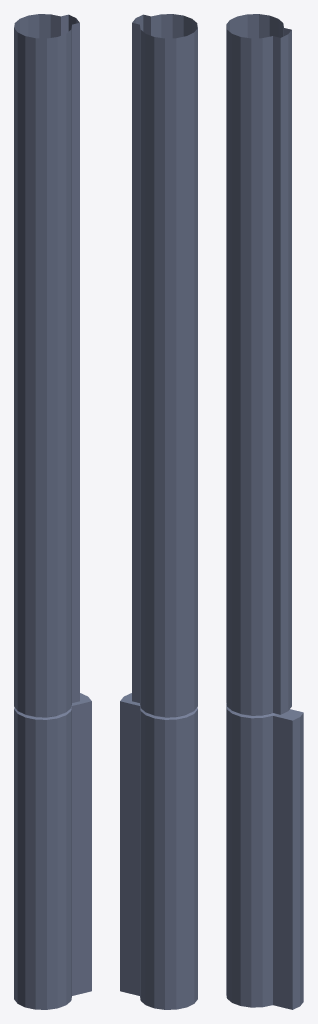
File: SM_metalrod_01.fbx
3 views of the same model, side by side, from view 1: azimuth 30°, elevation 25°; view 2: azimuth 150°, elevation 25°; view 3: azimuth 330°, elevation 25° (orthographic).
Parts seen in each view (by area): view 1: metalrod_01; view 2: metalrod_01; view 3: metalrod_01.
Part boxes in pixels (box(x1,y1,x2,y2)): metalrod_01: box(14, 14, 91, 1009); metalrod_01: box(120, 14, 197, 1009); metalrod_01: box(226, 14, 303, 1009).
Size of the model in its own units: 19.74 by 260 by 14.19.
